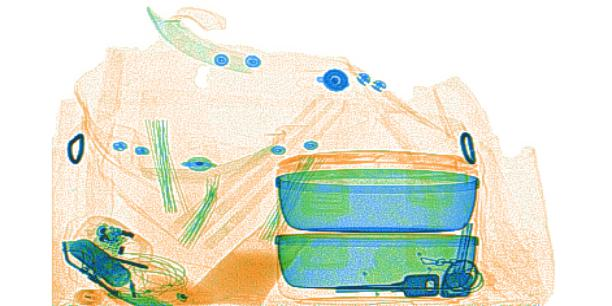battery: (66, 237, 130, 290)
